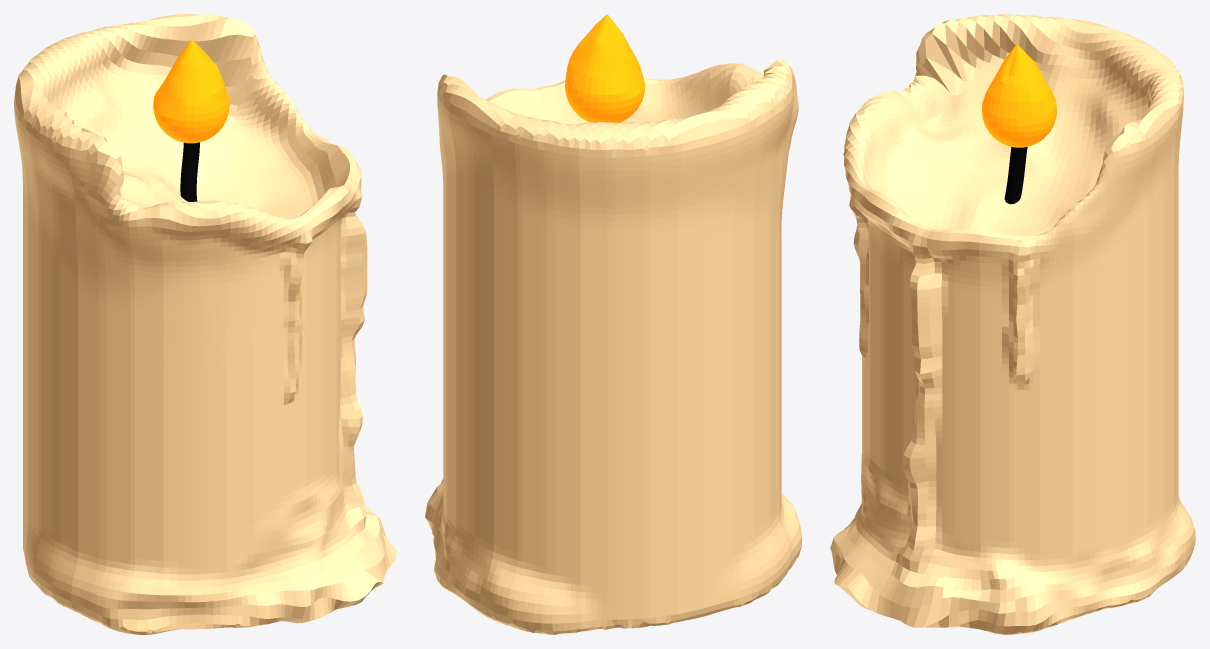
The model's file is FloorCandle2.glb.
The picture shows the model from 3 angles, left to right: view 1: azimuth 30°, elevation 25°; view 2: azimuth 150°, elevation 25°; view 3: azimuth 270°, elevation 25°; orthographic projection. The views are drawn at different scales.
Parts seen in each view (by area): view 1: Circle, Sphere, BezierCurve; view 2: Circle, Sphere; view 3: Circle, Sphere, BezierCurve.
Boxes of the visible parts, left/top/right/bottom form: Circle: left=14, top=14, right=396, bottom=634; Sphere: left=153, top=39, right=229, bottom=143; BezierCurve: left=180, top=142, right=199, bottom=201; Circle: left=425, top=59, right=801, bottom=634; Sphere: left=565, top=14, right=645, bottom=122; Circle: left=830, top=14, right=1195, bottom=634; Sphere: left=981, top=44, right=1056, bottom=147; BezierCurve: left=1004, top=147, right=1027, bottom=204.
Size of the model in its own units: 0.2279 by 0.3596 by 0.2286.
